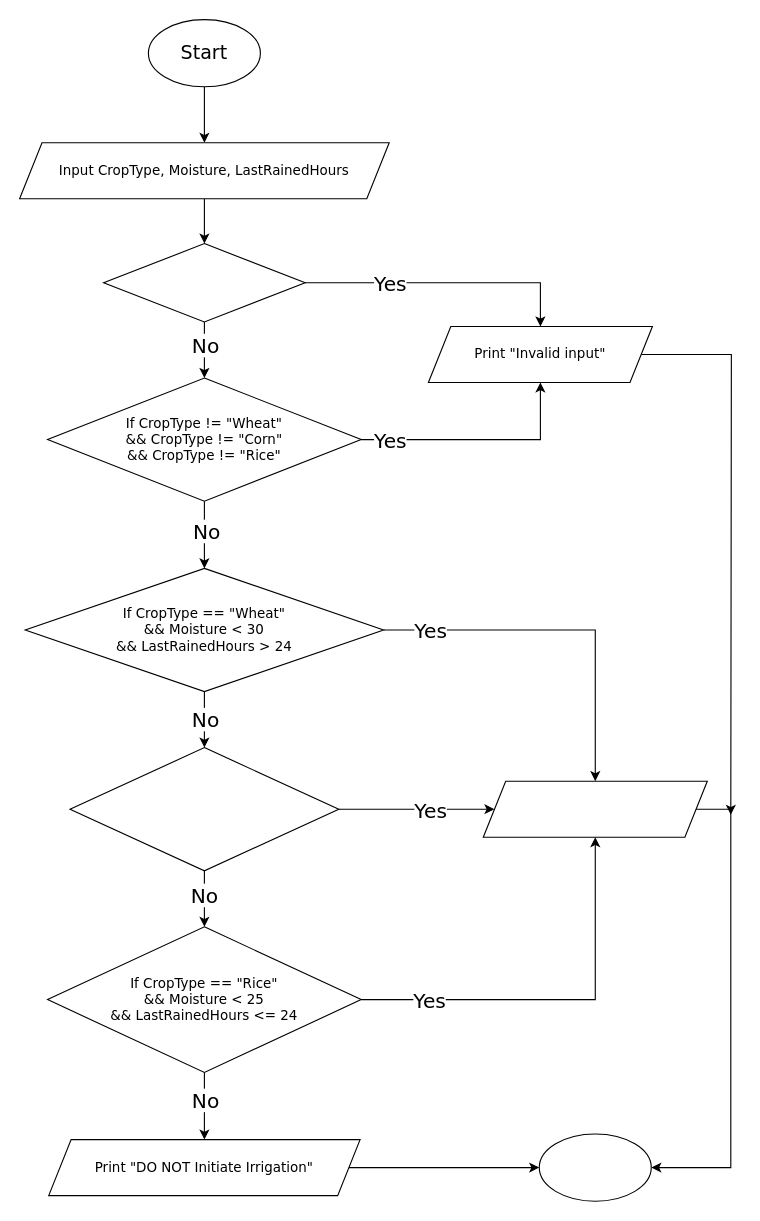
Image size: 760x1221. Some labels were removed from this diagram. Here are the shapes that lost their labels. From the top down, the centre of each, then its label:
(203,282): If Moisture > 100
(204,808): If CropType == "Corn" && Moisture < 40
(594,808): Print "Initiate Irrigation"
(594,1167): End
